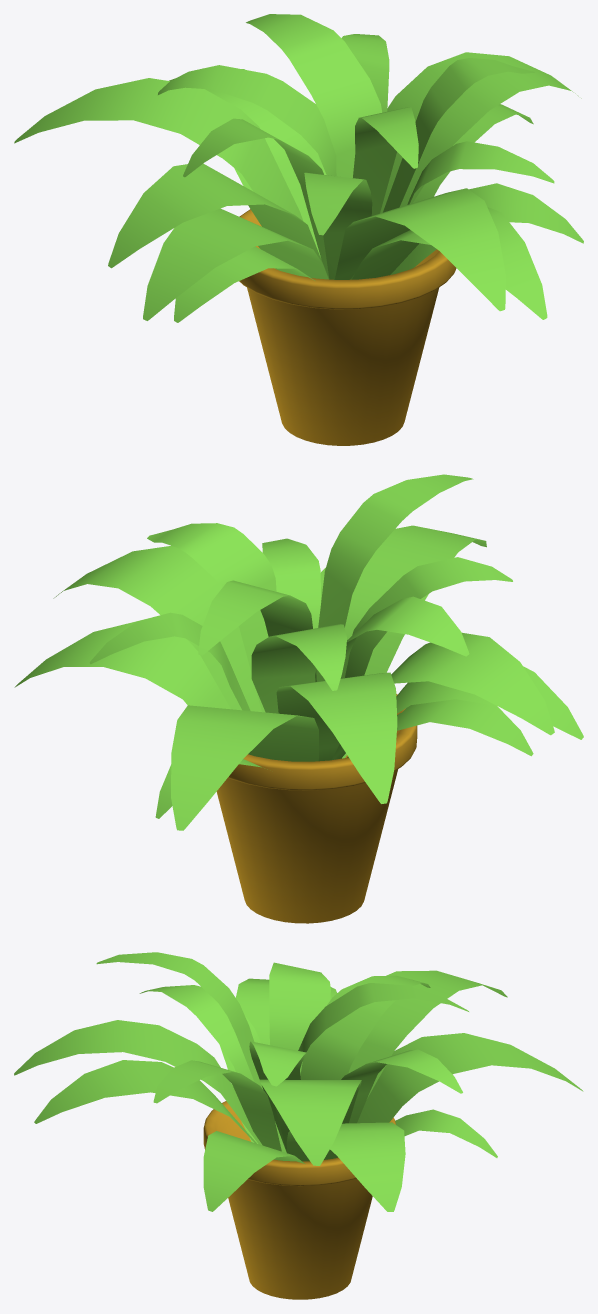
Rendered from Topfpflanze.glb.
The picture shows the model from 3 angles, top to bottom: view 1: azimuth 30°, elevation 25°; view 2: azimuth 150°, elevation 25°; view 3: azimuth 270°, elevation 25°; orthographic projection. The views are drawn at different scales.
Visible parts, largest first — view 1: Pflanze, Blumentopf; view 2: Pflanze, Blumentopf; view 3: Pflanze, Blumentopf.
Part boxes in pixels (x1,y1,x2,y2): Pflanze: [14, 14, 583, 322]; Blumentopf: [239, 209, 456, 445]; Pflanze: [14, 474, 583, 830]; Blumentopf: [216, 694, 417, 923]; Pflanze: [14, 952, 583, 1211]; Blumentopf: [203, 1101, 395, 1299].
Size of the model in its own units: 0.6629 by 0.4752 by 0.7997.
1 material, 1 textured.
